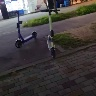beam: (9, 7, 38, 50)
gcooter: (39, 8, 62, 61)
